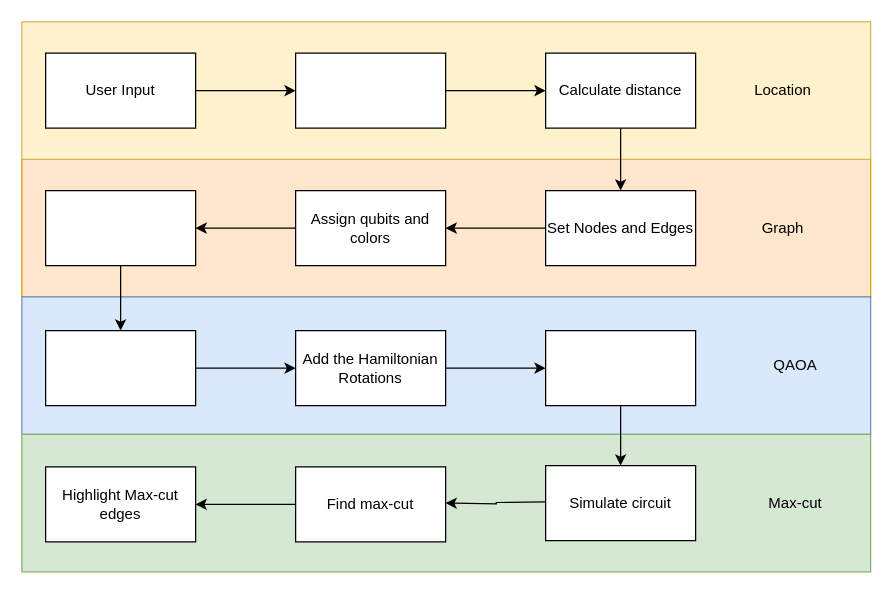
The diagram is 893 pixels wide and 594 high, and some of its shapes have lost their labels. Here are the shapes that lost their labels. From the top down, the centre of each, then its label:
At (x=370, y=90): "Get nearest cities".
At (x=120, y=227): "Draw the graph".
At (x=120, y=367): "Define QAOA Parameters".
At (x=620, y=367): "Create the circuit".
